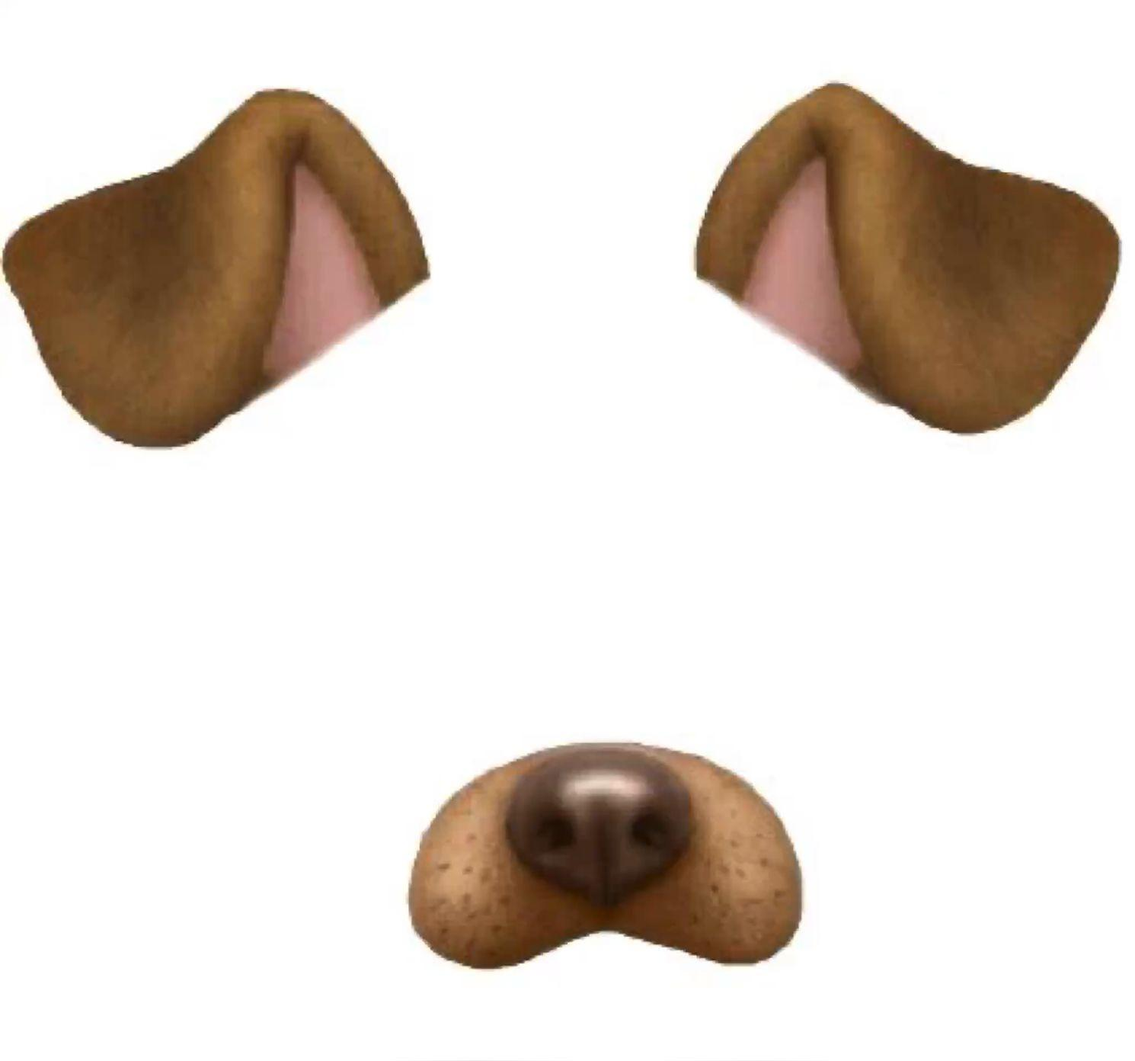non-dog: (0, 80, 1123, 973)
